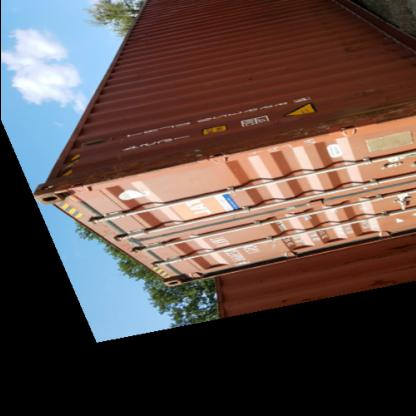Damage: (47, 130, 217, 195), (286, 89, 416, 144), (302, 1, 358, 57)
